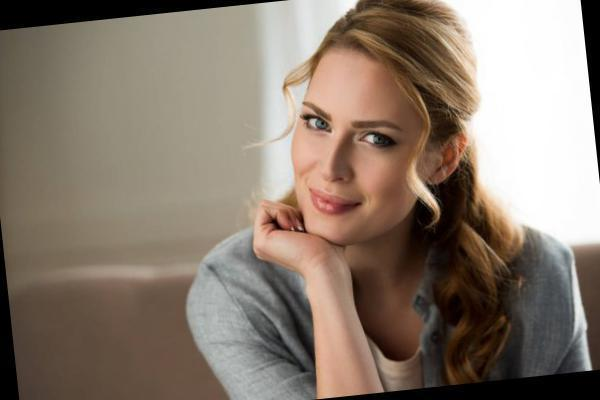Sober: (292, 70, 416, 238)
